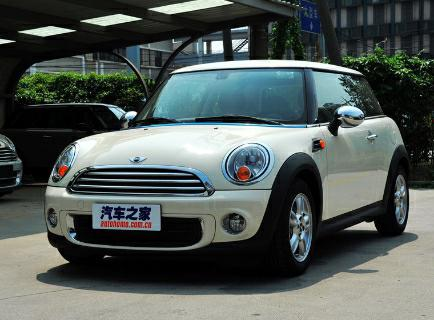MINI: (41, 60, 410, 281), (0, 102, 126, 191)
